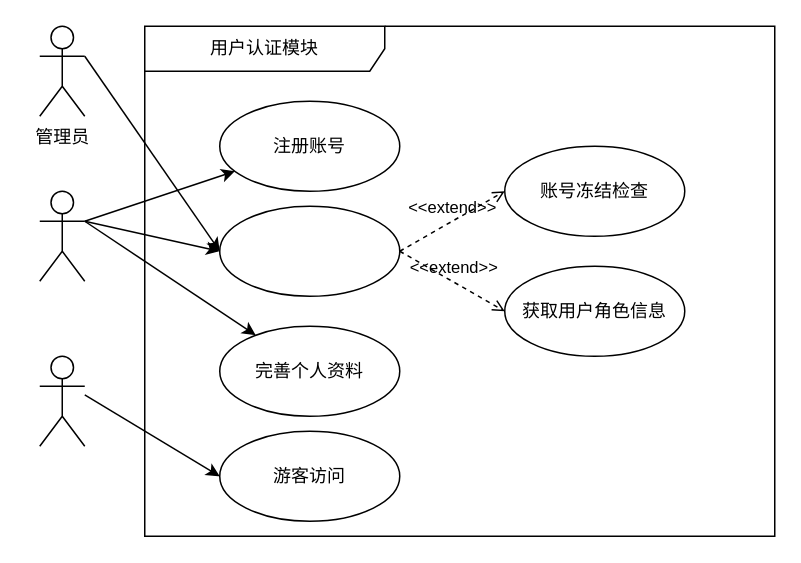
Image size: 801x563. Some labels were removed from this diagram. Here are the shapes that lost their labels. From the top down, the box of each, then its label:
(38, 190, 85, 281): 普通用户
(218, 205, 400, 296): 登录系统
(38, 355, 85, 446): 游客
